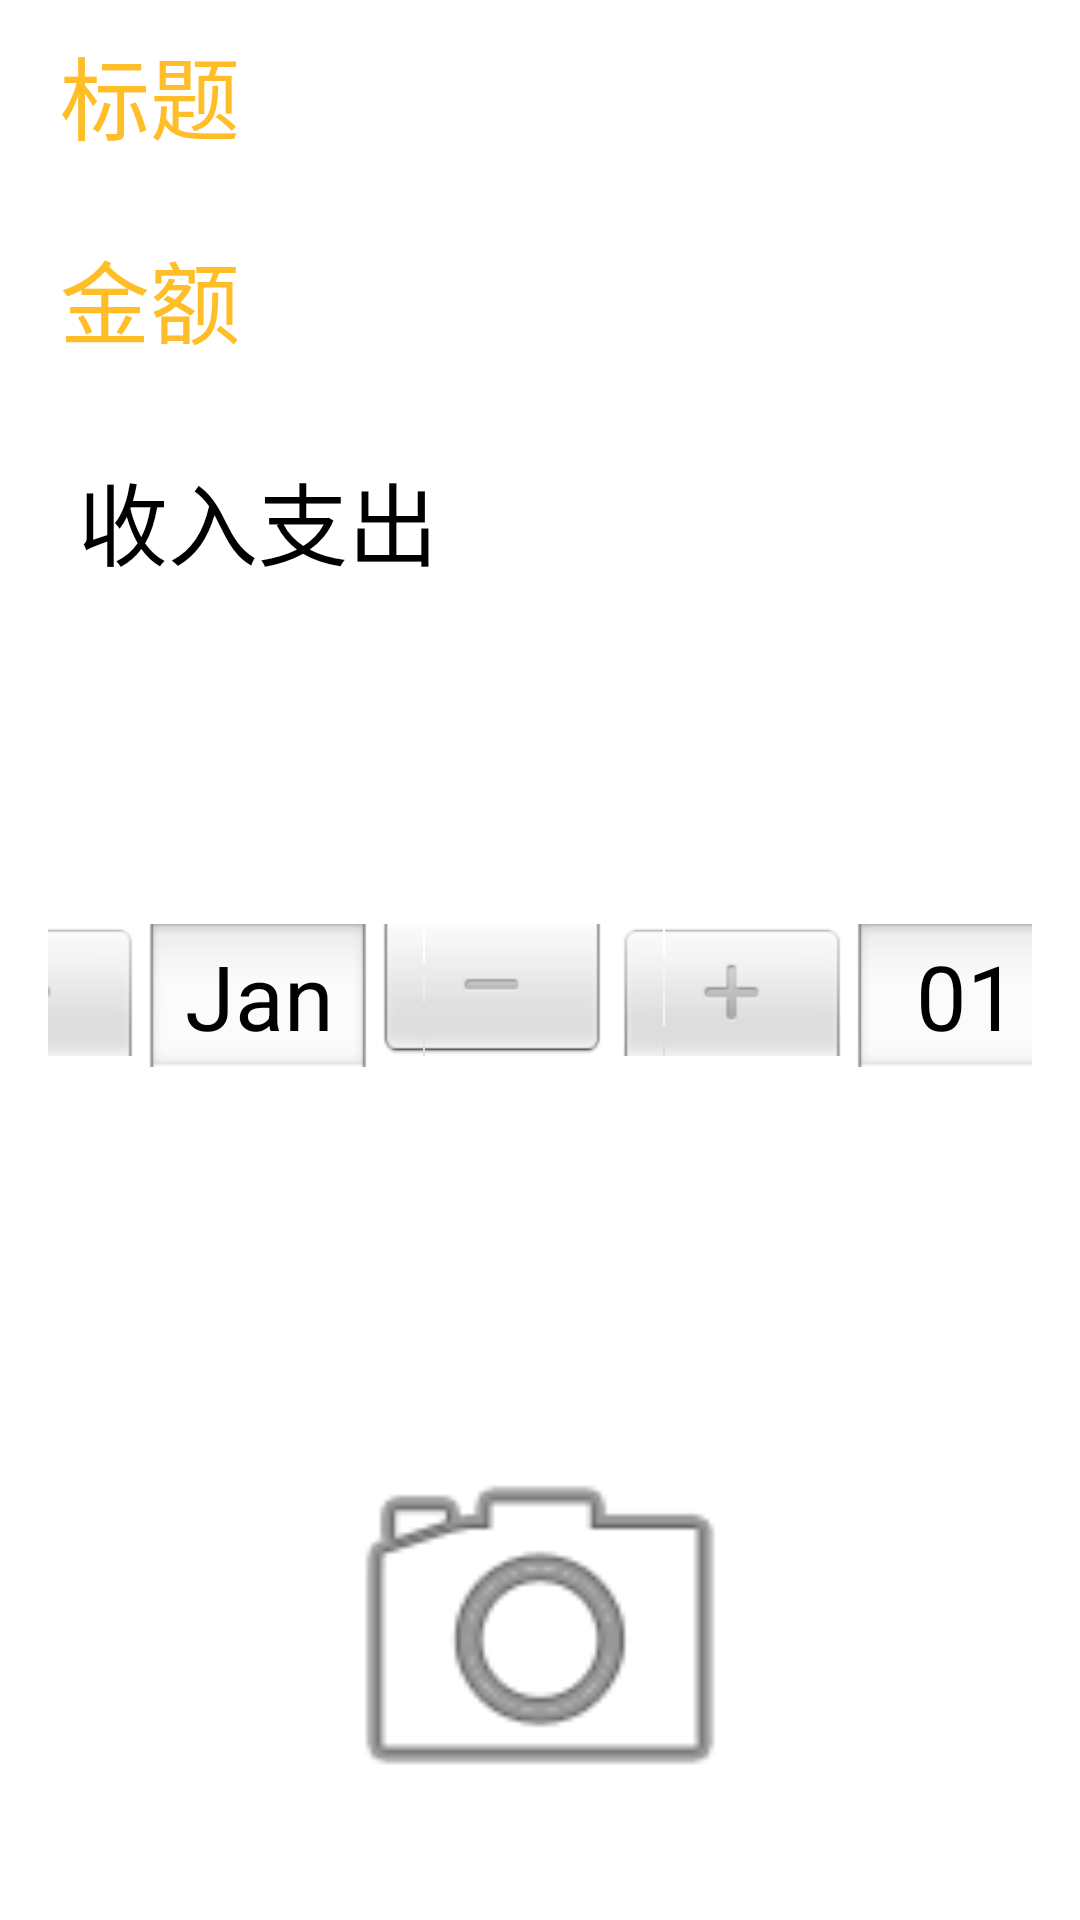

Point at icon controls on the screen. Image size 1080 x 1920, points as point (x, y).
camera: point (540, 1625)
